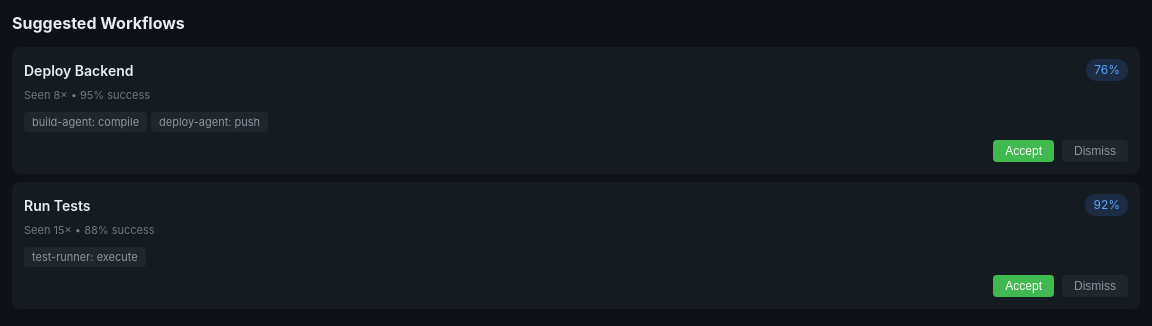
Test: PatternSuggestion › removes card on dismiss
expect the number of elements with test id "suggestion-card" is 2: met, box [12, 47, 1140, 174]; [12, 182, 1140, 309]
Click the button with test id "dismiss-suggestion-btn" below "92": [1095, 286] box [1062, 275, 1128, 297]
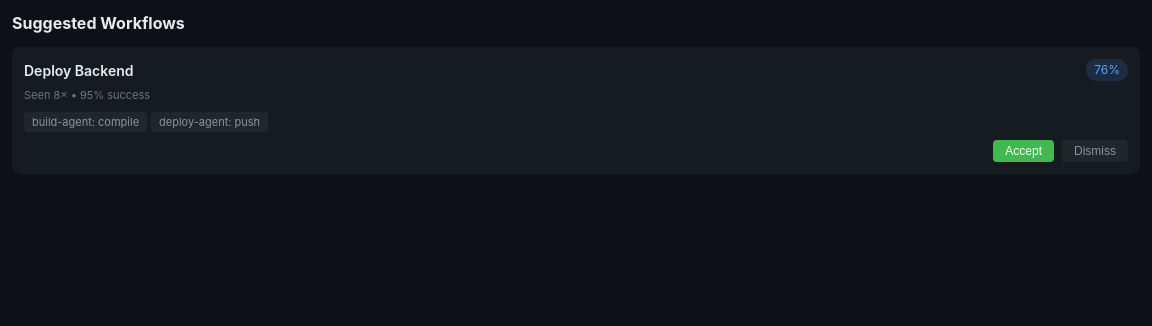
expect the text "Deploy Backend" is shown: met, box [24, 60, 134, 80]
expect the number of elements with test id "suggestion-card" is 1: met, box [12, 47, 1140, 174]
expect the text "Run Tests" is gone: met
